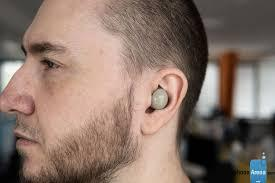earphone: (148, 83, 173, 112)
